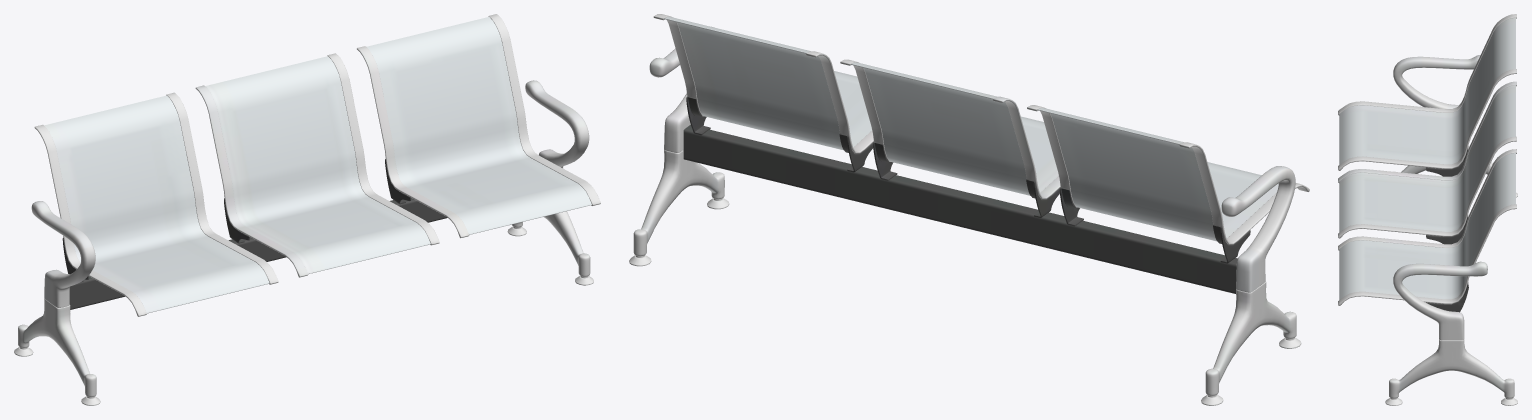
3 views of the same model, side by side, from view 1: azimuth 30°, elevation 25°; view 2: azimuth 150°, elevation 25°; view 3: azimuth 270°, elevation 25° (orthographic). The views are drawn at different scales.
Parts seen in each view (by area): view 1: Waiting Bench (3 Seats)_Waiting Bench_0; view 2: Waiting Bench (3 Seats)_Waiting Bench_0; view 3: Waiting Bench (3 Seats)_Waiting Bench_0.
Boxes of the visible parts, box(x1,y1,x2,y2) form: Waiting Bench (3 Seats)_Waiting Bench_0: box(14, 14, 600, 405); Waiting Bench (3 Seats)_Waiting Bench_0: box(629, 14, 1309, 405); Waiting Bench (3 Seats)_Waiting Bench_0: box(1338, 14, 1517, 405).
Bounding box in the file's own units: 2.31 × 0.9475 × 0.8214.
Materials: 1 (1 with a texture image).
